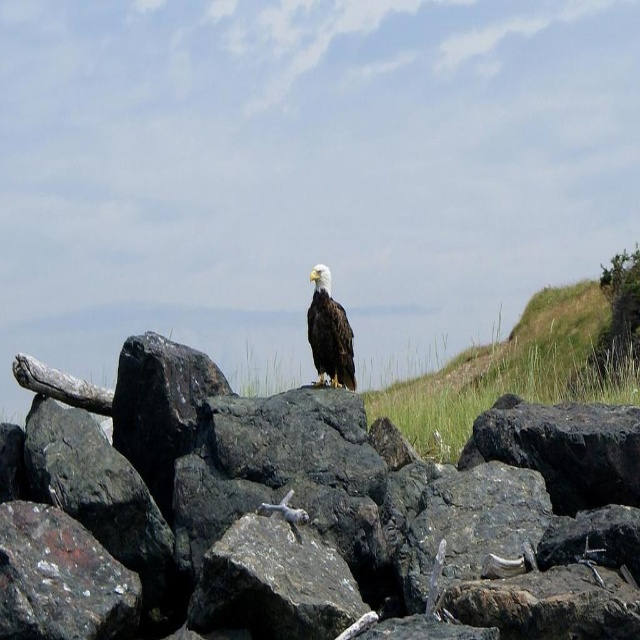Eagle: (300, 261, 360, 393)
